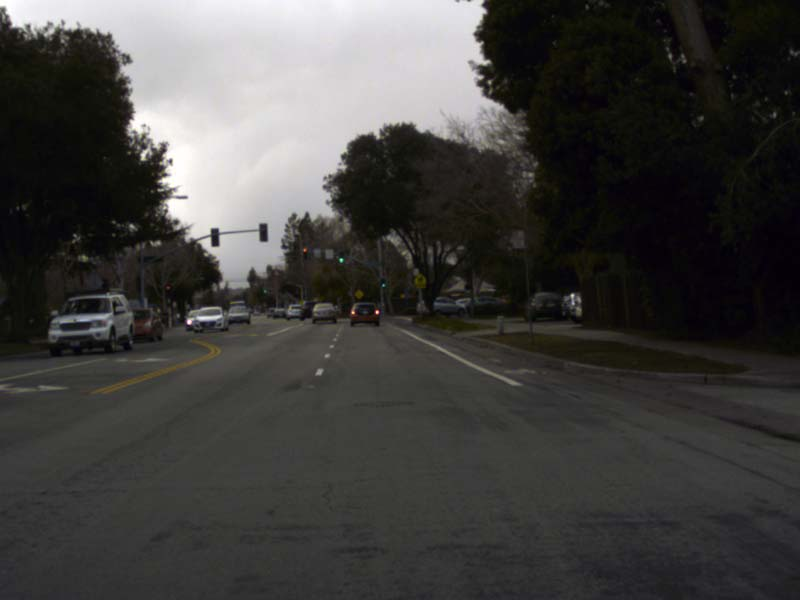Green: (338, 250, 343, 263), (381, 278, 384, 287), (263, 286, 265, 292)
Red: (165, 284, 172, 297), (303, 248, 306, 259)
